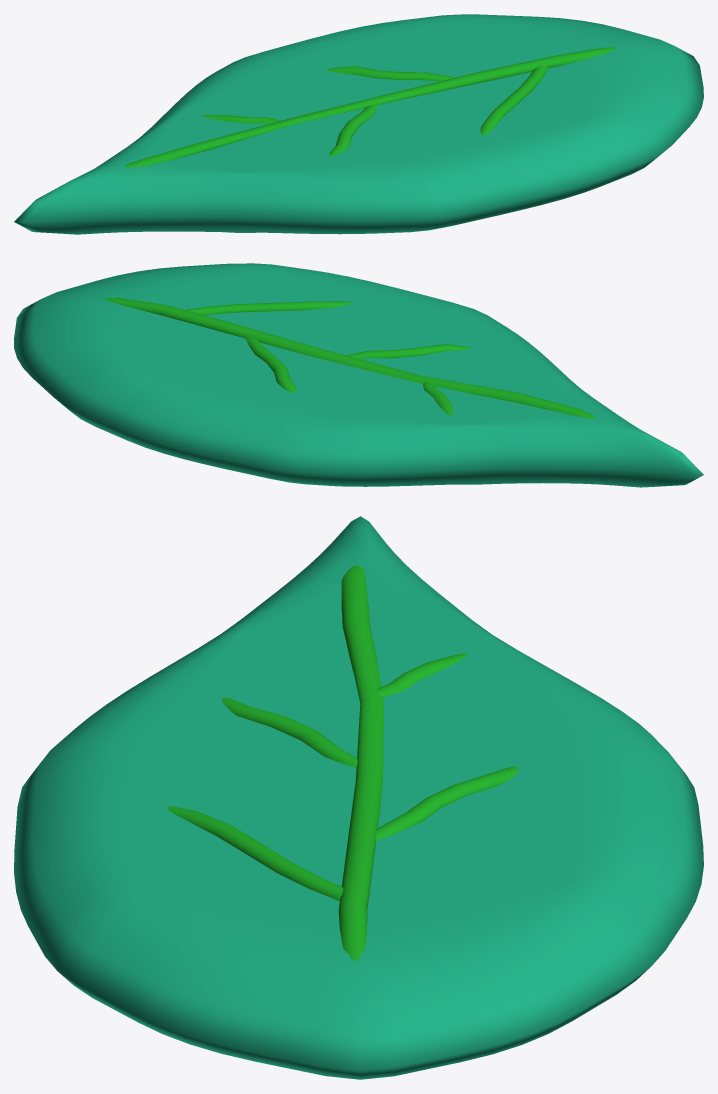
The model's file is vineLeaf_invertedNormals.fbx.
3 views of the same model, one above another, from view 1: azimuth 30°, elevation 25°; view 2: azimuth 150°, elevation 25°; view 3: azimuth 270°, elevation 25° (orthographic). The views are drawn at different scales.
Visible parts, largest first — view 1: pCylinder8; view 2: pCylinder8; view 3: pCylinder8.
Part boxes in pixels (box(x1,y1,x2,y2)): pCylinder8: box(14, 14, 703, 234); pCylinder8: box(14, 263, 703, 487); pCylinder8: box(14, 516, 703, 1079).
Bounding box in the file's own units: 1.1 × 0.0998 × 0.5902.
